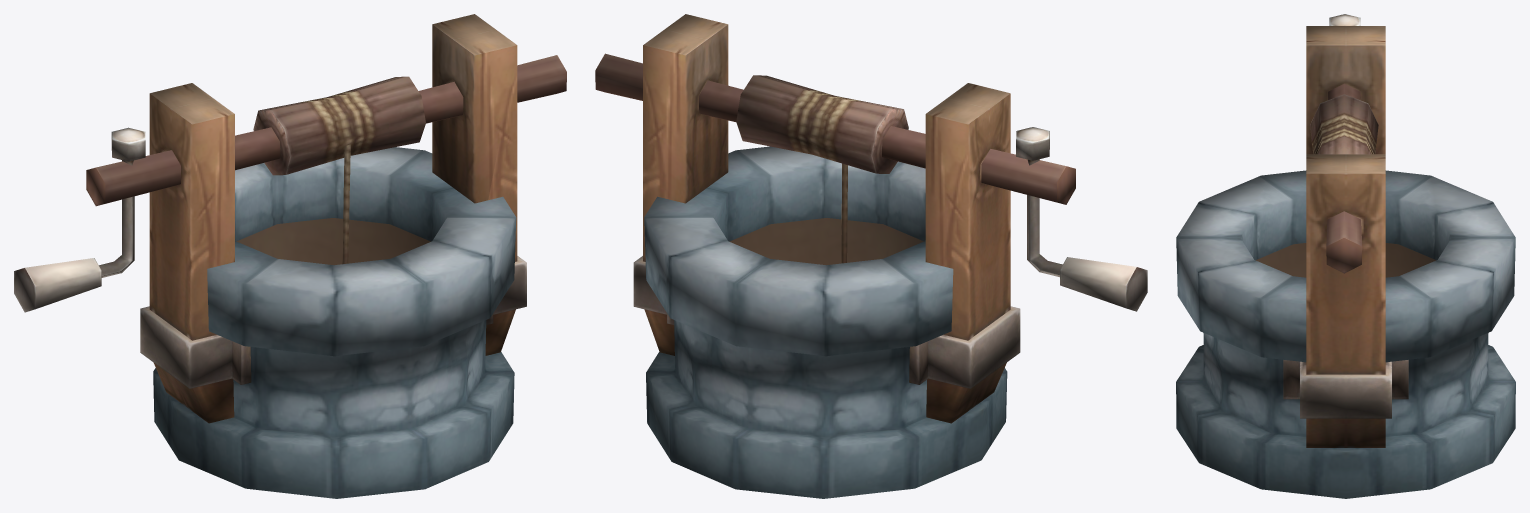
The model's file is Lty_jin.FBX.
3 views of the same model, side by side, from view 1: azimuth 30°, elevation 25°; view 2: azimuth 150°, elevation 25°; view 3: azimuth 270°, elevation 25° (orthographic). The views are drawn at different scales.
Parts seen in each view (by area): view 1: Lty_jin; view 2: Lty_jin; view 3: Lty_jin.
Part boxes in pixels (left/top/right/bottom): Lty_jin: left=14, top=14, right=566, bottom=498; Lty_jin: left=595, top=14, right=1147, bottom=498; Lty_jin: left=1176, top=14, right=1515, bottom=498.
Bounding box in the file's own units: 119 × 70.92 × 75.7.
